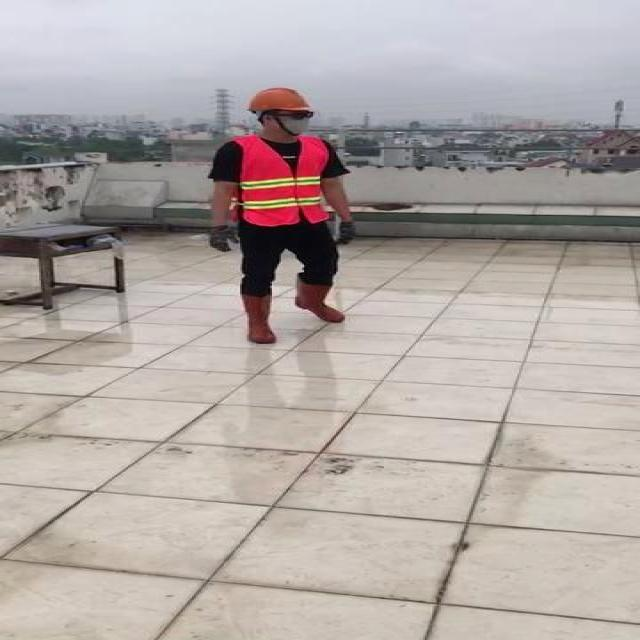boots: (295, 278, 345, 323), (240, 293, 279, 345)
face_mask: (277, 108, 315, 137)
glasses: (276, 108, 320, 122)
hand_glove: (206, 227, 238, 252), (334, 221, 359, 247)
head_helmet: (247, 86, 315, 112)
person: (204, 85, 362, 348)
vest: (233, 136, 329, 226)
